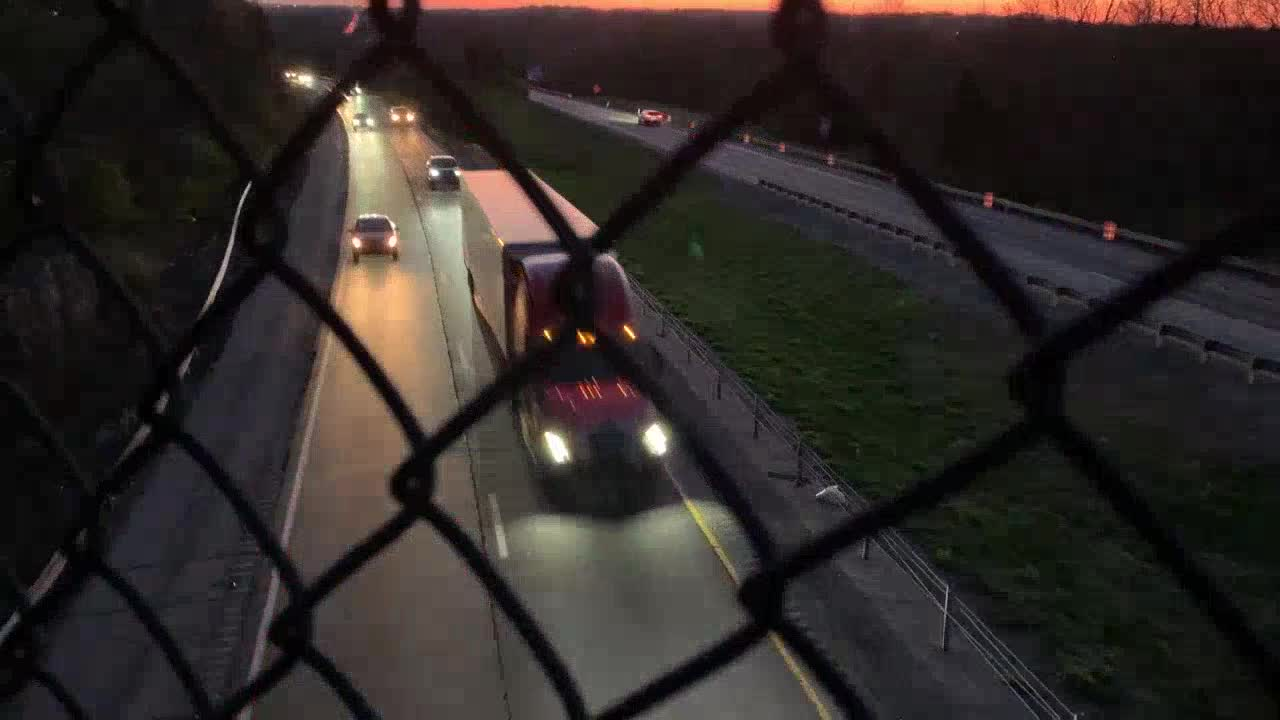heavyTruck: (456, 173, 699, 519)
largeCar: (385, 104, 420, 130), (633, 107, 666, 131)
smallCar: (341, 213, 407, 265), (422, 153, 462, 191), (349, 112, 378, 134)
